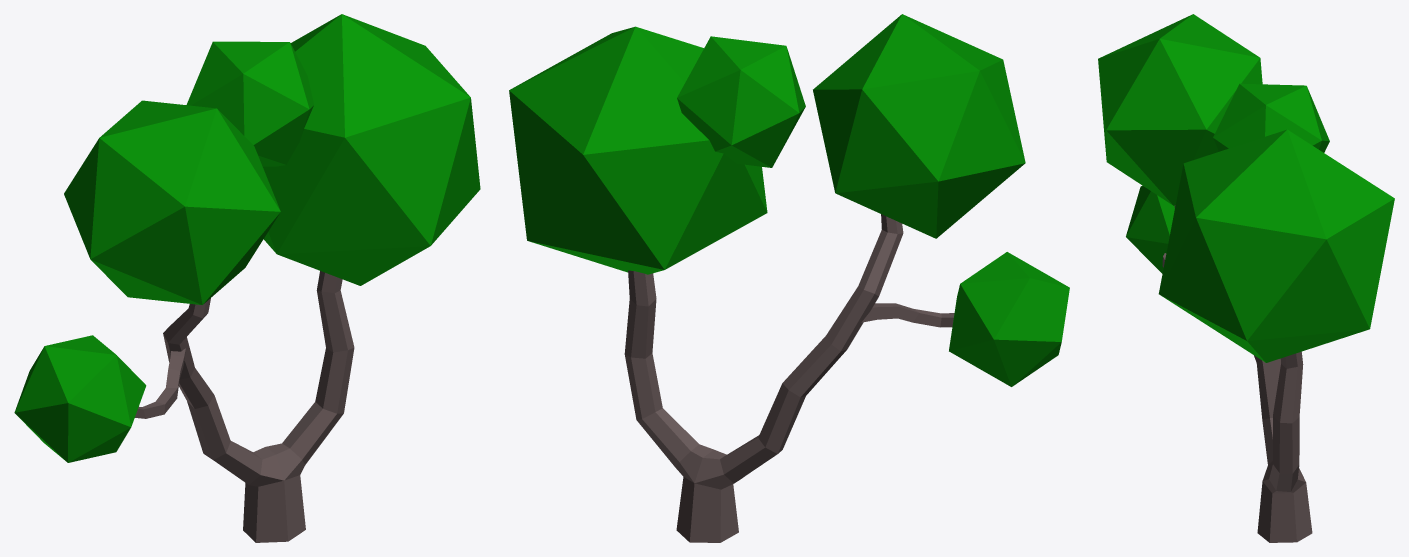
Rendered from Wood_V3.fbx.
The picture shows the model from 3 angles, left to right: view 1: azimuth 30°, elevation 25°; view 2: azimuth 150°, elevation 25°; view 3: azimuth 270°, elevation 25°; orthographic projection. The views are drawn at different scales.
Visible parts, largest first — view 1: Wood_V3; view 2: Wood_V3; view 3: Wood_V3.
Part boxes in pixels (x1,y1,x2,y2): Wood_V3: (14, 14, 480, 542); Wood_V3: (509, 14, 1069, 542); Wood_V3: (1098, 14, 1394, 542).
Bounding box in the file's own units: 7.74 × 7.55 × 4.61.
